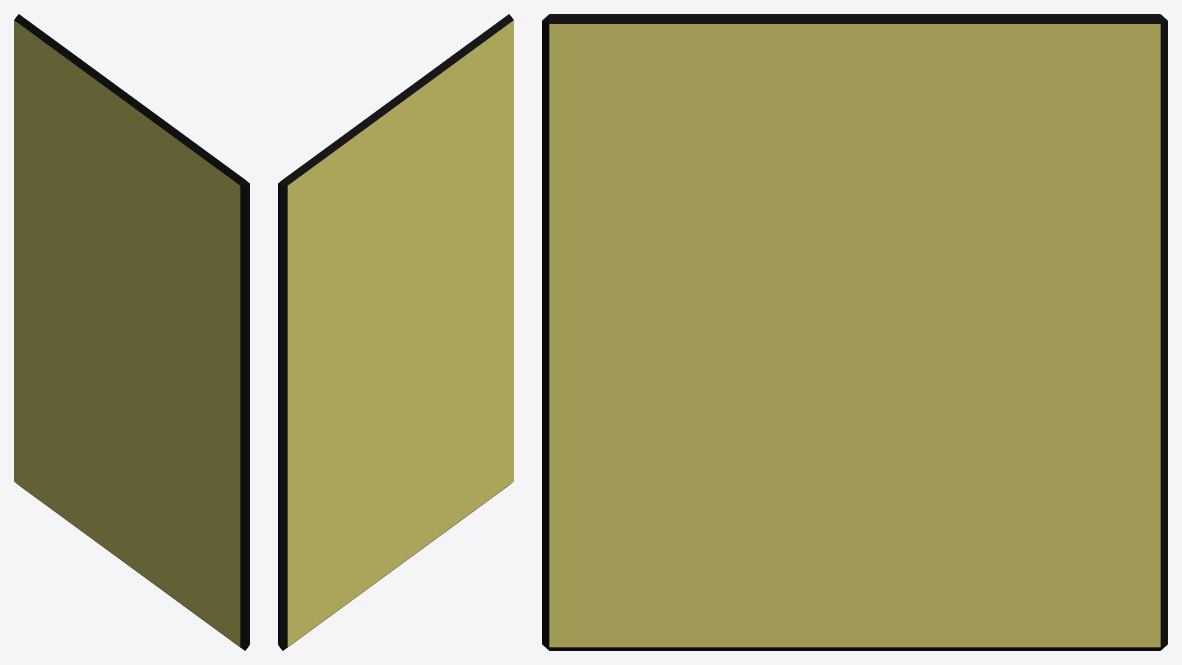
The model's file is bathroom-mirror.glb.
3 views of the same model, side by side, from view 1: azimuth 30°, elevation 25°; view 2: azimuth 150°, elevation 25°; view 3: azimuth 270°, elevation 25° (orthographic). The views are drawn at different scales.
Visible parts, largest first — view 1: Object_99; view 2: Object_99; view 3: Object_99.
Boxes of the visible parts, x1,y1,x2,y2 form: Object_99: (14, 14, 249, 650); Object_99: (278, 14, 513, 650); Object_99: (542, 14, 1167, 650).
Size of the model in its own units: 0.0541 by 2.55 by 2.27.
1 material, 1 textured.
